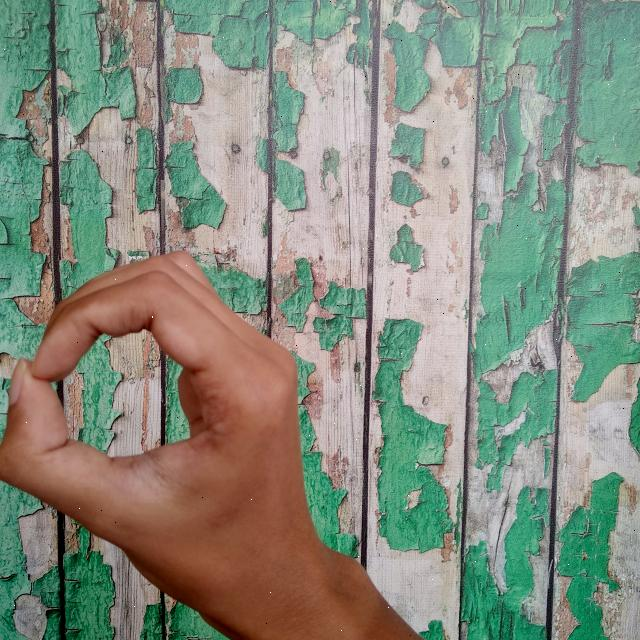O: (0, 248, 424, 640)
